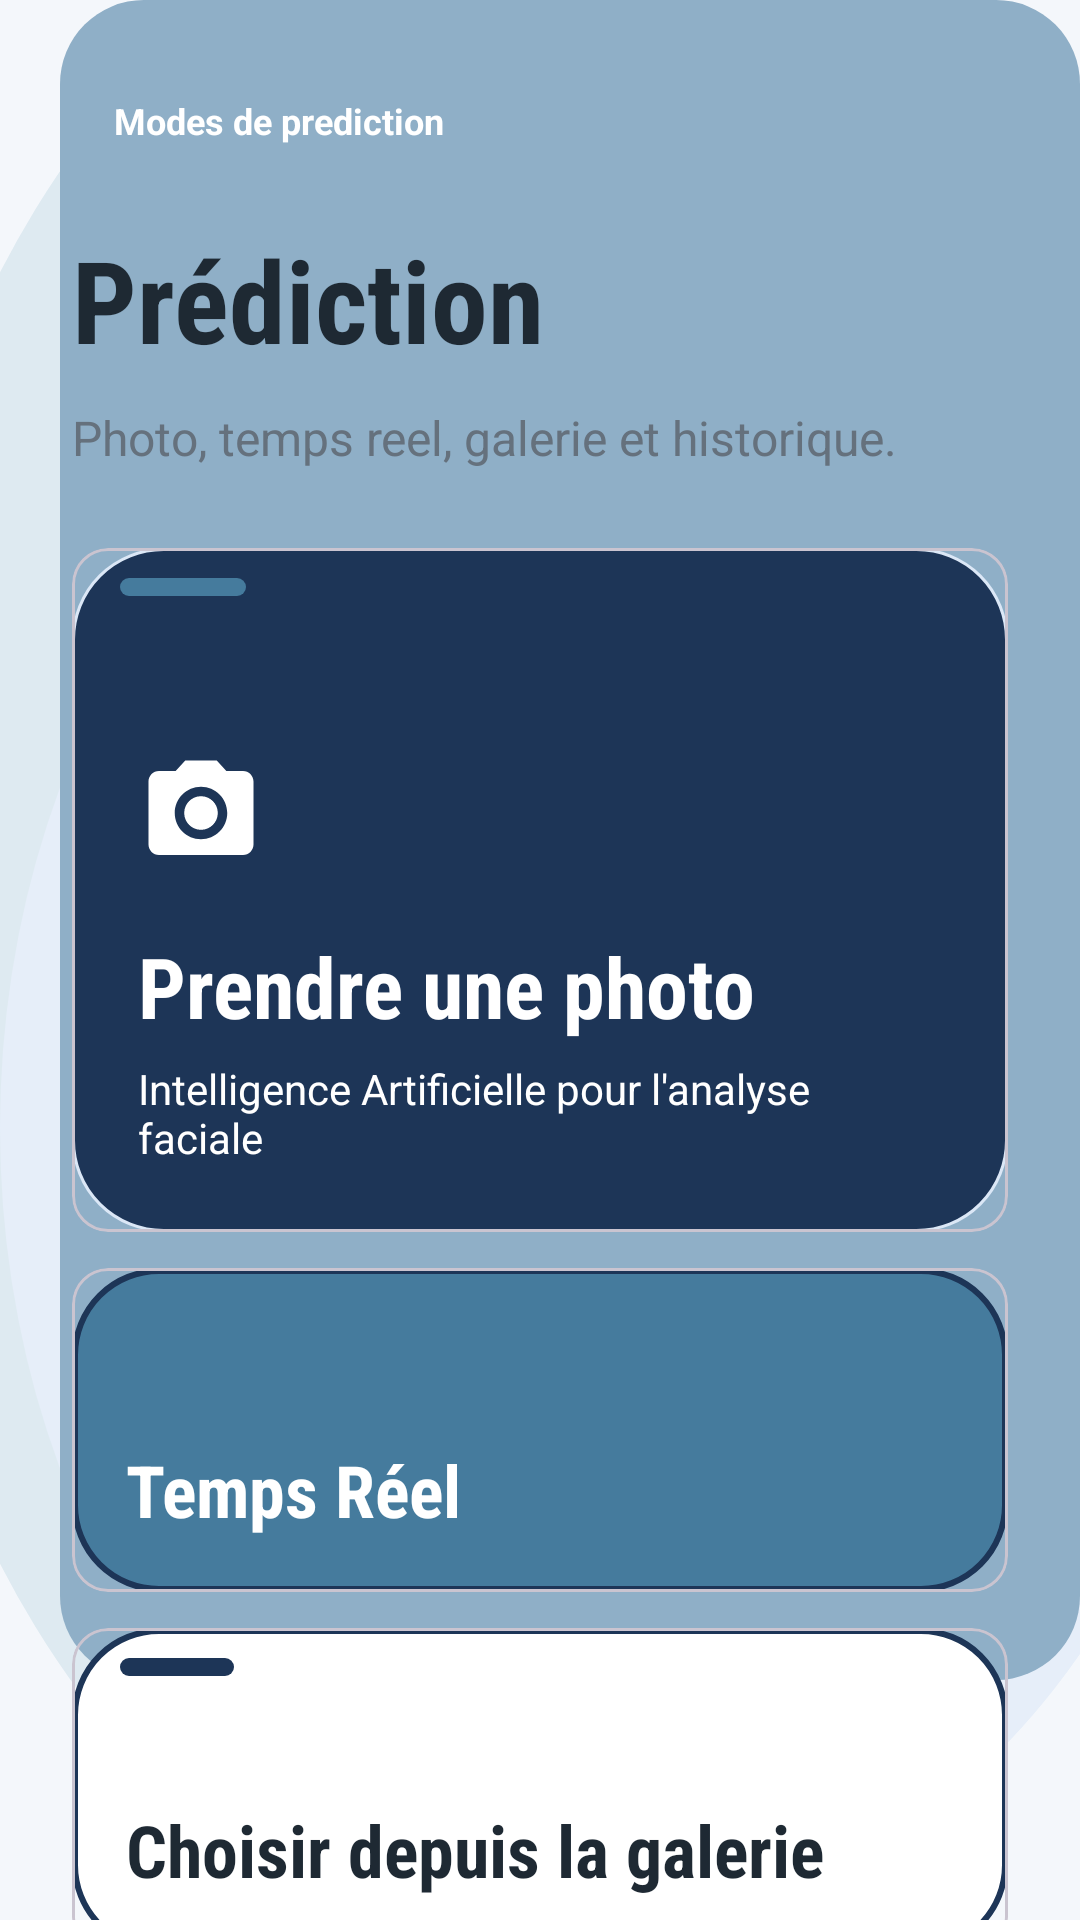

Screen size 1080*1920. Icon name, then its center in pixels as point (x, y):
camera: point (201, 807)
